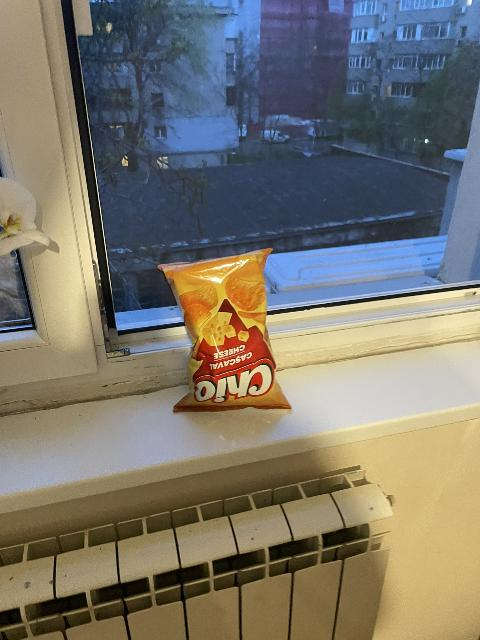Chio Cascaval 125g: (158, 246, 289, 412)
